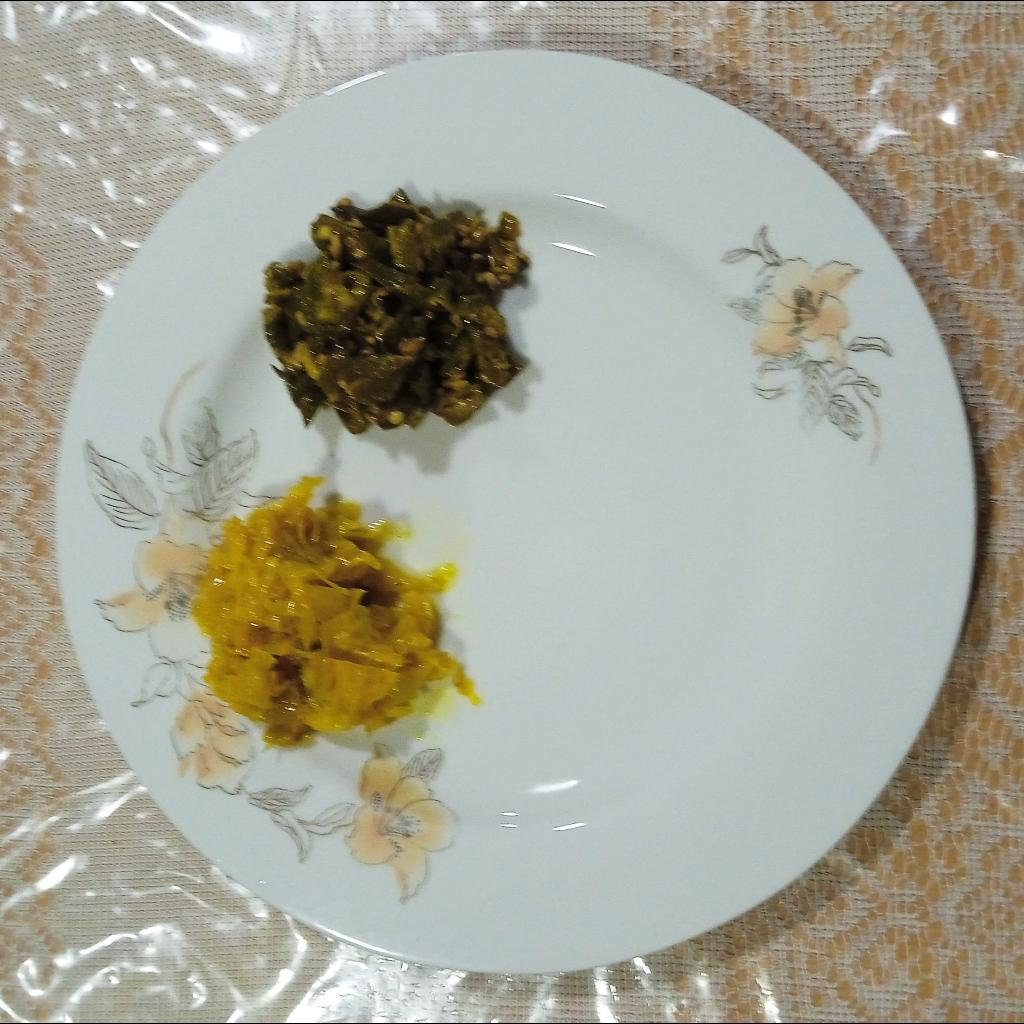cabbage: (193, 476, 456, 747)
okra: (264, 188, 530, 439)
